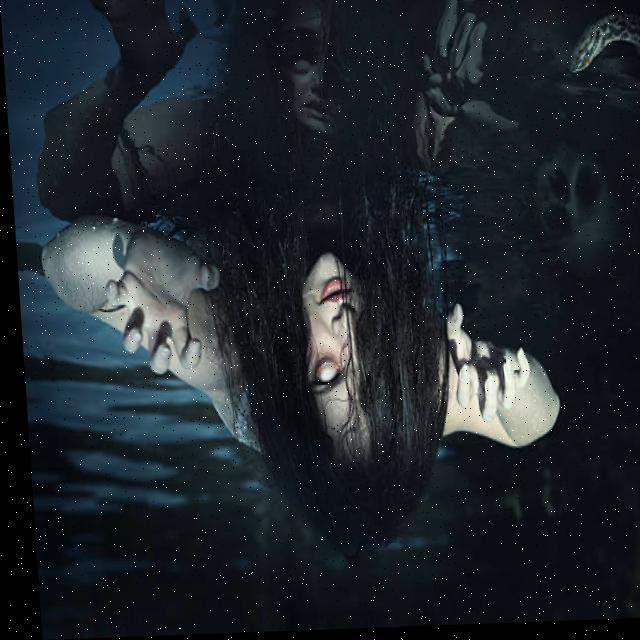Zombie: (298, 255, 366, 445)
